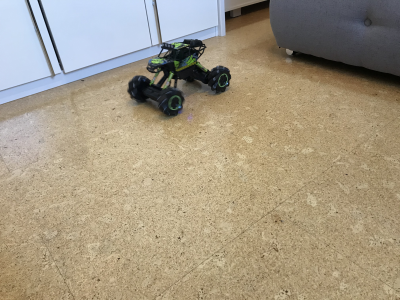remote control car: (123, 37, 233, 117)
